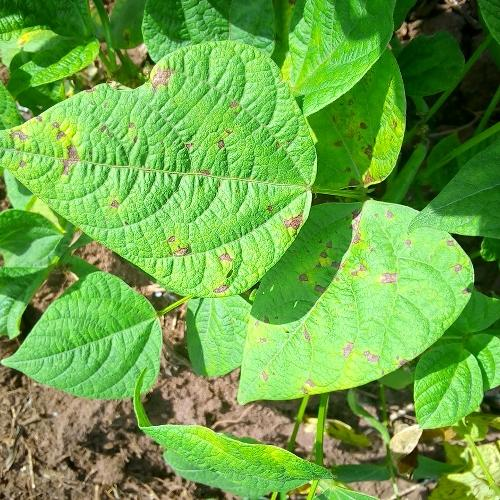hawar: (42, 112, 93, 180), (176, 130, 232, 182), (198, 242, 242, 291), (272, 202, 316, 240), (5, 125, 28, 175), (160, 231, 194, 264), (150, 64, 179, 94), (218, 93, 245, 110), (108, 197, 128, 219)
